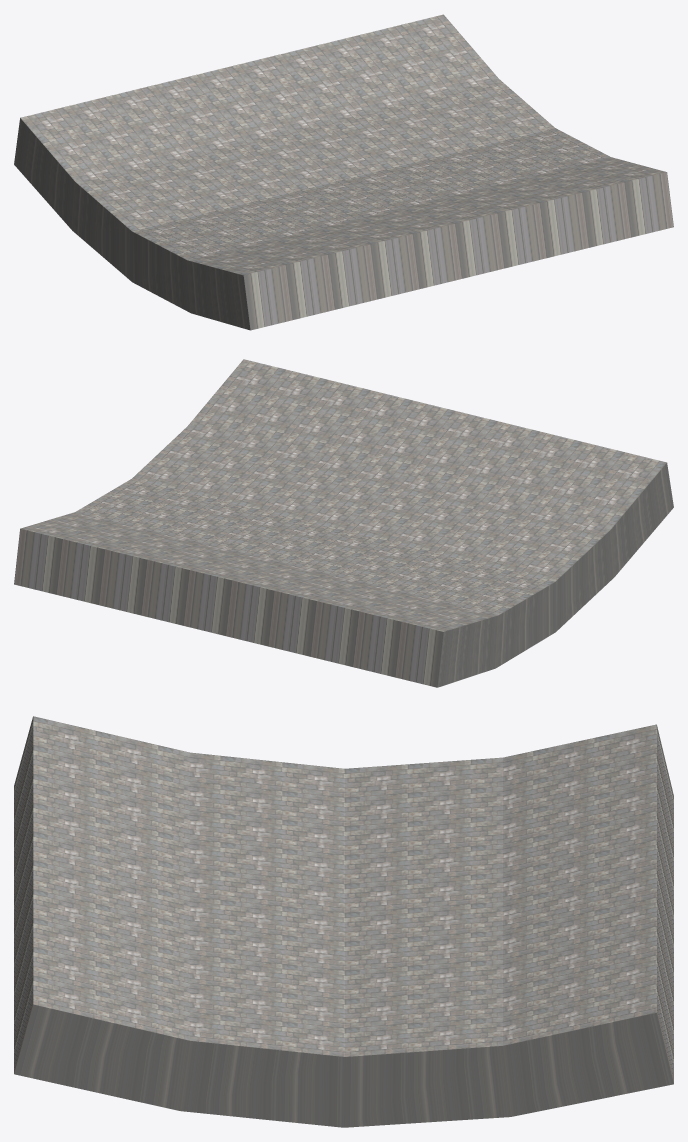
Rendered from tWall.fbx.
3 renders of one model, top to bottom at view 1: azimuth 30°, elevation 25°; view 2: azimuth 150°, elevation 25°; view 3: azimuth 270°, elevation 25°, orthographic. The views are drawn at different scales.
Parts seen in each view (by area): view 1: 평면; view 2: 평면; view 3: 평면.
Boxes of the visible parts, x1,y1,x2,y2 form: 평면: (14, 14, 673, 330); 평면: (14, 359, 673, 687); 평면: (14, 716, 673, 1127).
Size of the model in its own units: 137 by 27.27 by 132.
1 material, 1 textured.
